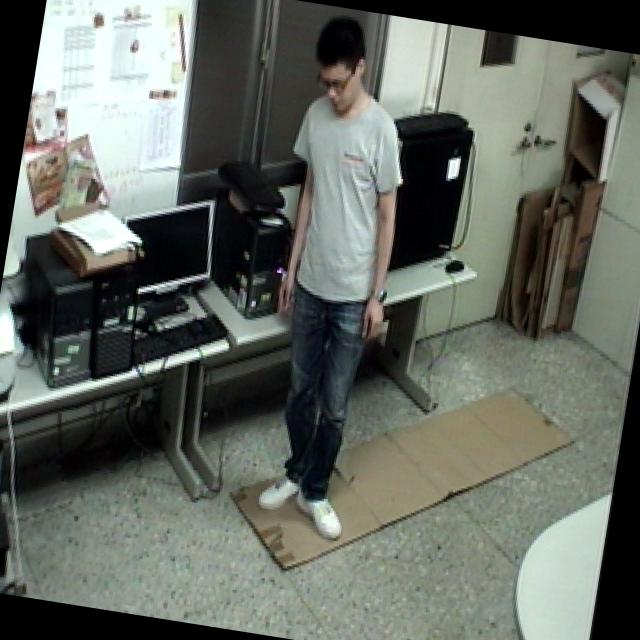stand: (222, 0, 443, 563)
